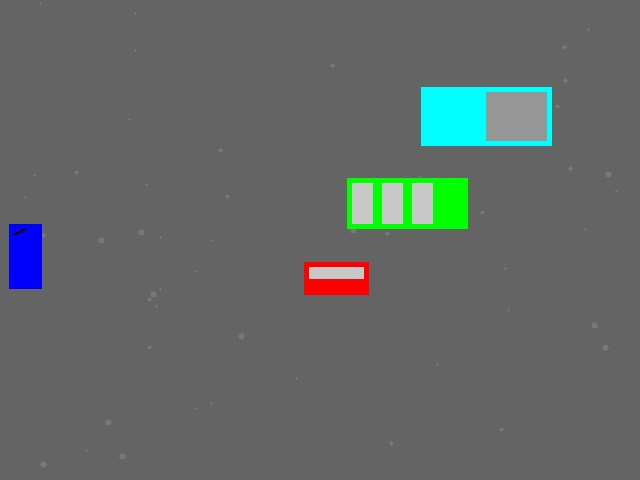bus: (347, 178, 467, 228)
car: (304, 262, 368, 294)
motorcycle: (9, 224, 41, 288)
truck: (421, 87, 551, 145)
